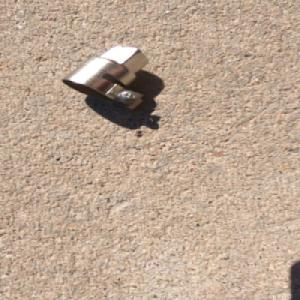MetalPart: (60, 43, 150, 111)
